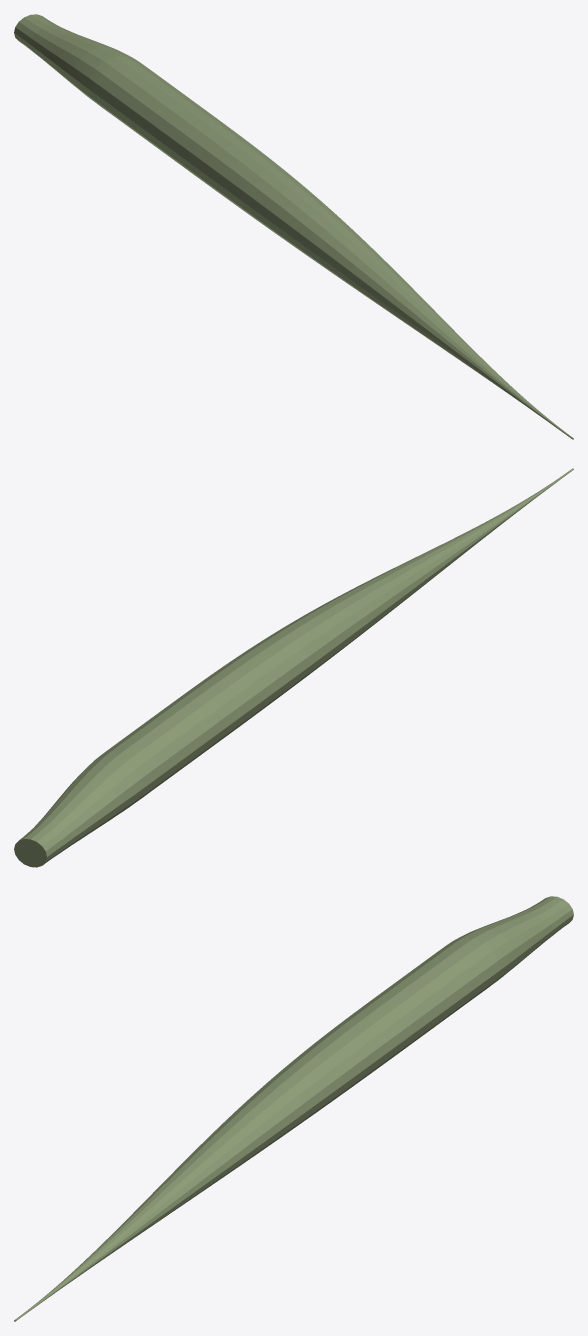
File: serpent_body_original_01.glb
The picture shows the model from 3 angles, top to bottom: view 1: azimuth 30°, elevation 25°; view 2: azimuth 150°, elevation 25°; view 3: azimuth 330°, elevation 25°; orthographic projection.
Parts seen in each view (by area): view 1: S0_Body; view 2: S0_Body; view 3: S0_Body.
Part boxes in pixels (x1=…): S0_Body: x1=14, y1=14, x2=573, y2=439; S0_Body: x1=14, y1=468, x2=573, y2=867; S0_Body: x1=14, y1=896, x2=573, y2=1321.
Bounding box in the file's own units: 0.17 × 0.1364 × 2.8.
